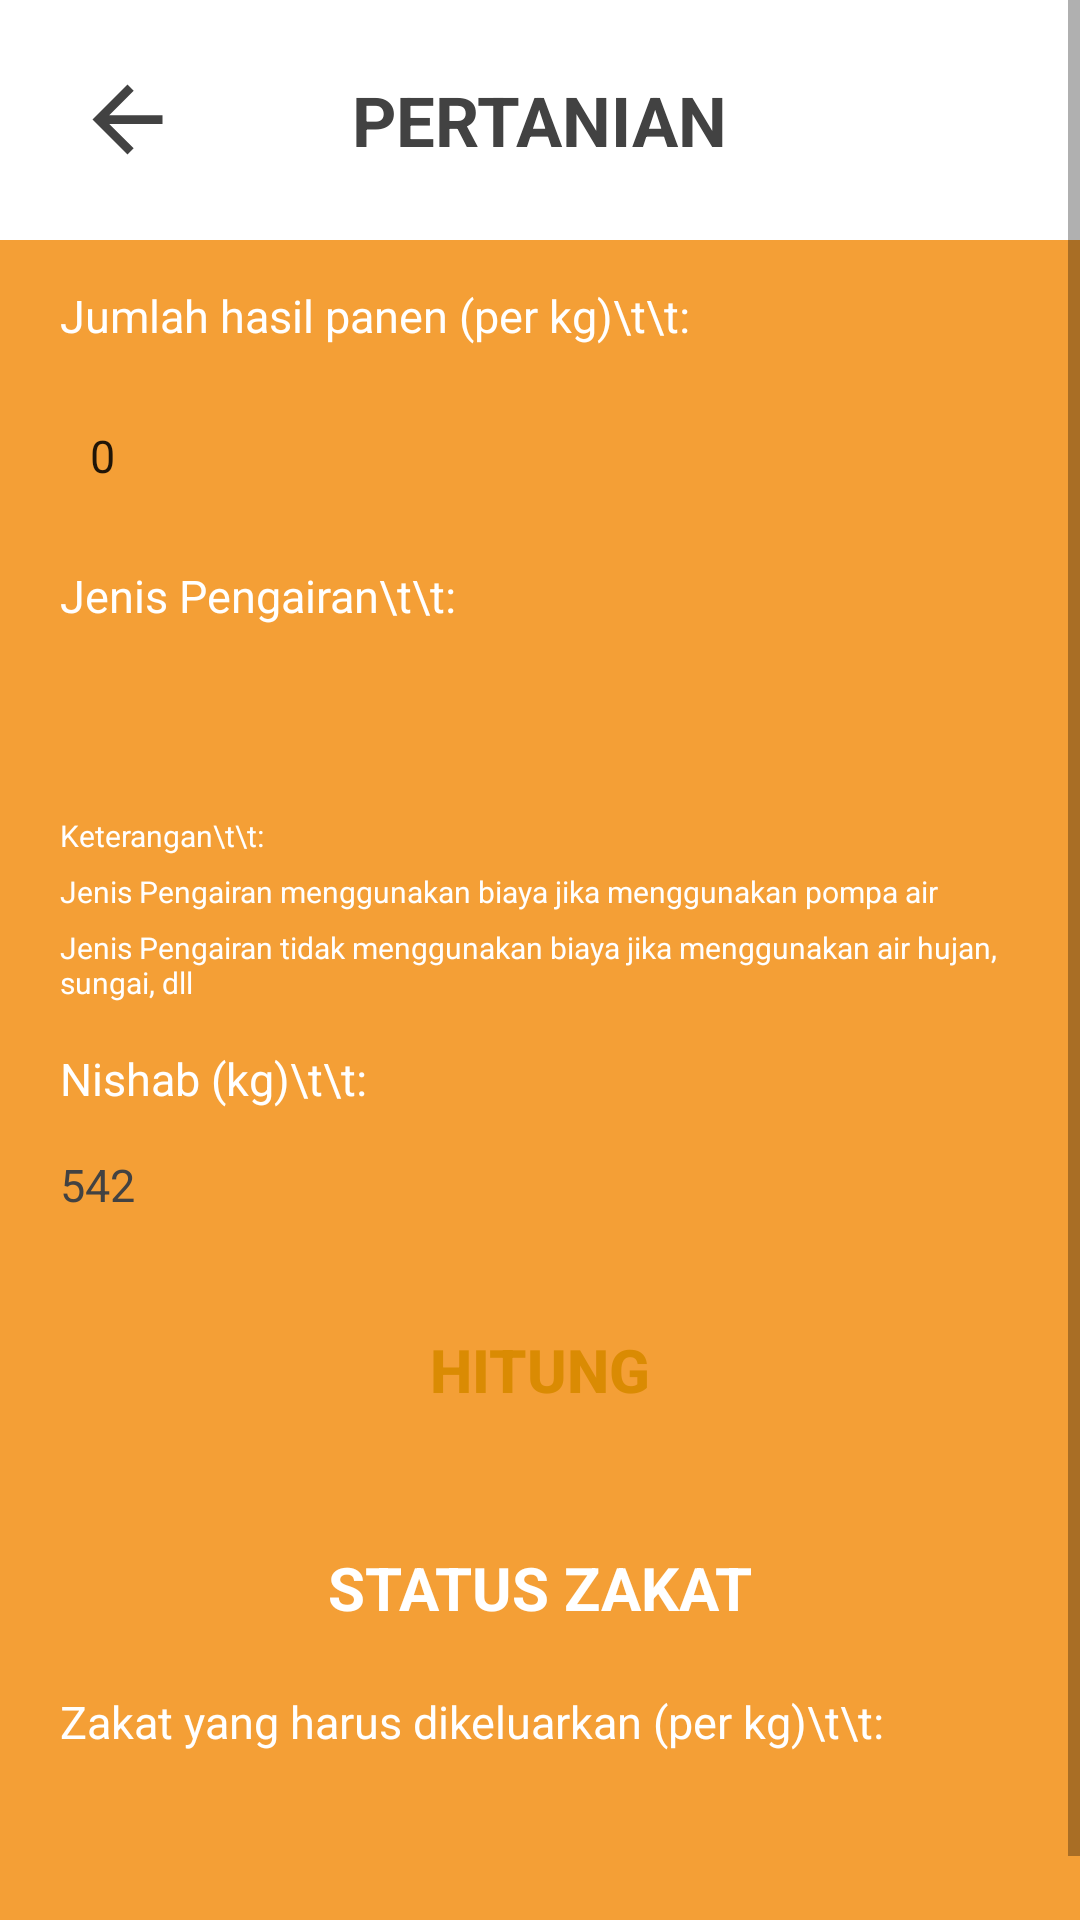

Locate icon controls on the screen. Image size 1080 × 1920, boxes as (x1, y1, x2, y2).
kembaliicondark: (92, 84, 163, 155)
